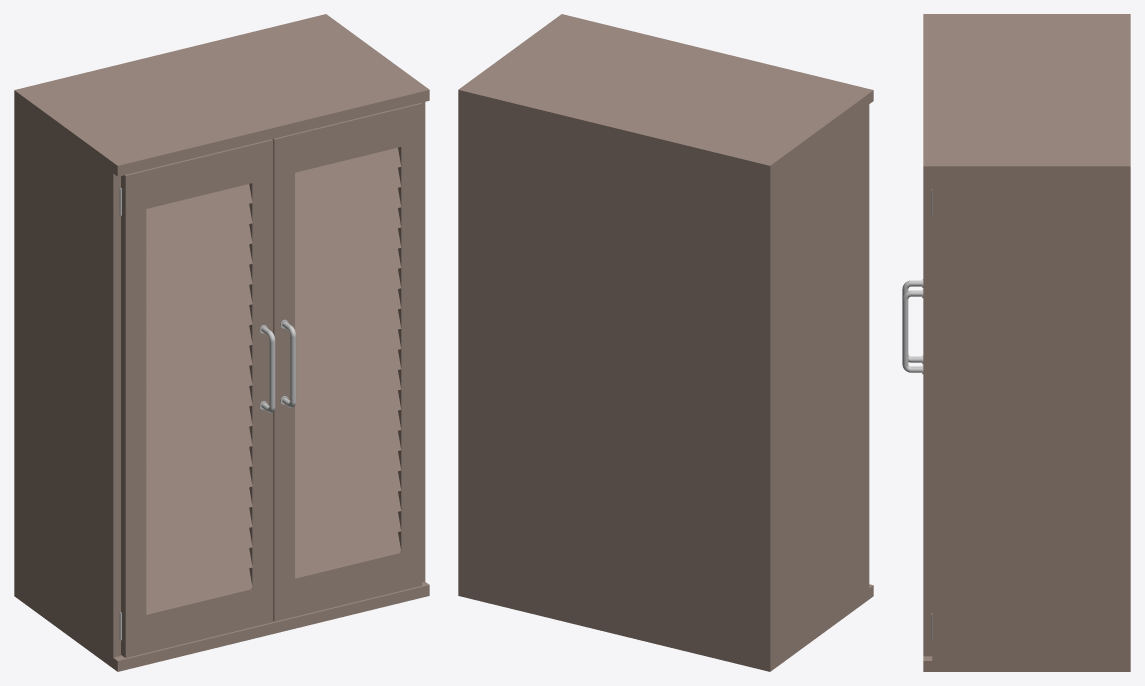
3 views of the same model, side by side, from view 1: azimuth 30°, elevation 25°; view 2: azimuth 150°, elevation 25°; view 3: azimuth 270°, elevation 25° (orthographic).
Visible parts, largest first — view 1: body, 左扉, 右扉; view 2: body; view 3: body, 右扉.
Part boxes in pixels (box(x1,y1,x2,y2)): body: box(14, 14, 429, 671); 左扉: box(121, 139, 275, 657); 右扉: box(272, 103, 421, 621); body: box(458, 14, 873, 671); body: box(923, 14, 1130, 671); 右扉: box(902, 177, 932, 656).
Size of the model in its own units: 0.6 by 0.93 by 0.38.
